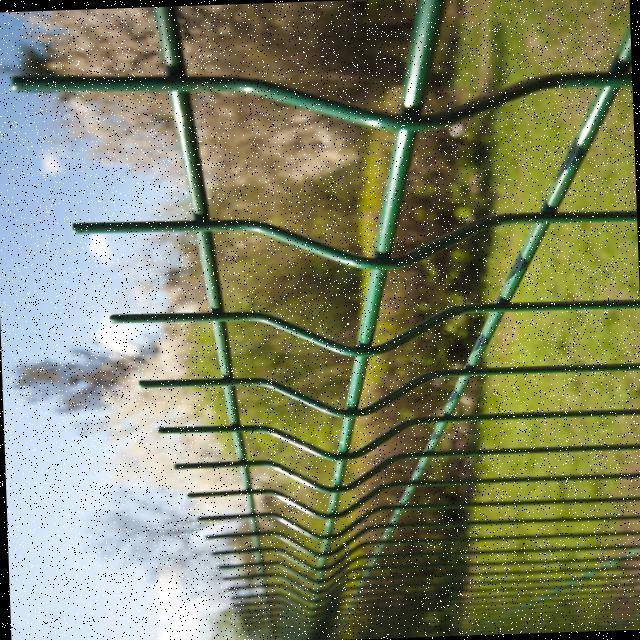fence line: (39, 2, 639, 639)
